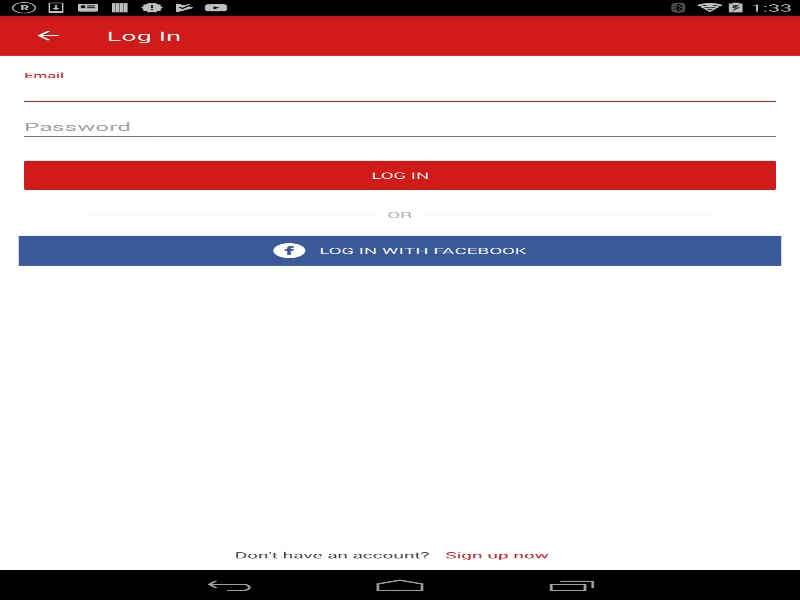Button: (18, 156, 781, 193), (273, 235, 526, 265), (429, 540, 564, 570), (10, 15, 85, 55)
Input: (18, 78, 781, 106), (18, 113, 781, 141)
